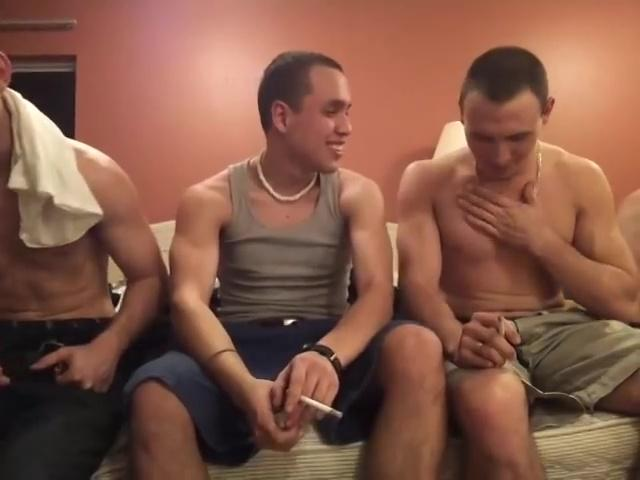cigarette: (297, 390, 349, 421), (496, 313, 508, 339)
